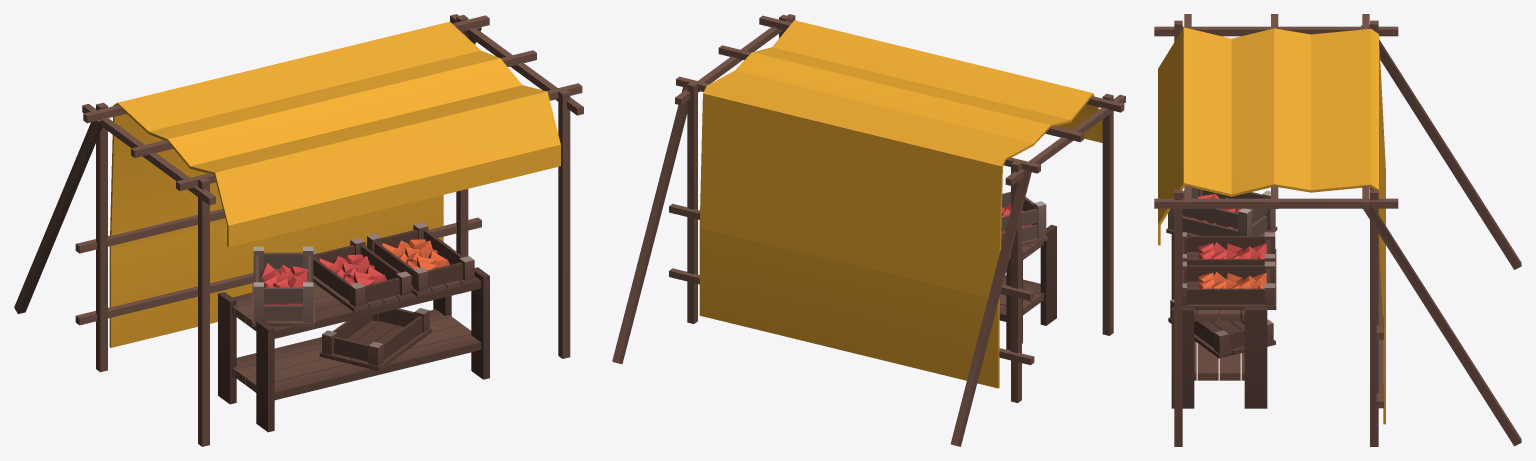
Rendered from village_stall_003.glb.
3 renders of one model, left to right at view 1: azimuth 30°, elevation 25°; view 2: azimuth 150°, elevation 25°; view 3: azimuth 270°, elevation 25°, orthographic. The views are drawn at different scales.
Visible parts, largest first — view 1: props_053; view 2: props_053; view 3: props_053.
Part boxes in pixels (x1=…): props_053: x1=14, y1=14, x2=583, y2=446; props_053: x1=612, y1=14, x2=1125, y2=446; props_053: x1=1154, y1=14, x2=1521, y2=446.
Size of the model in its own units: 6.94 by 4.39 by 5.72.
Materials: 1 (1 with a texture image).
